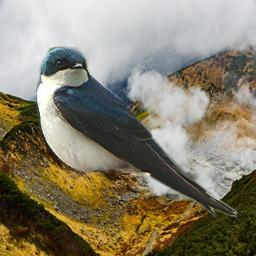Swallow: (36, 46, 237, 218)
